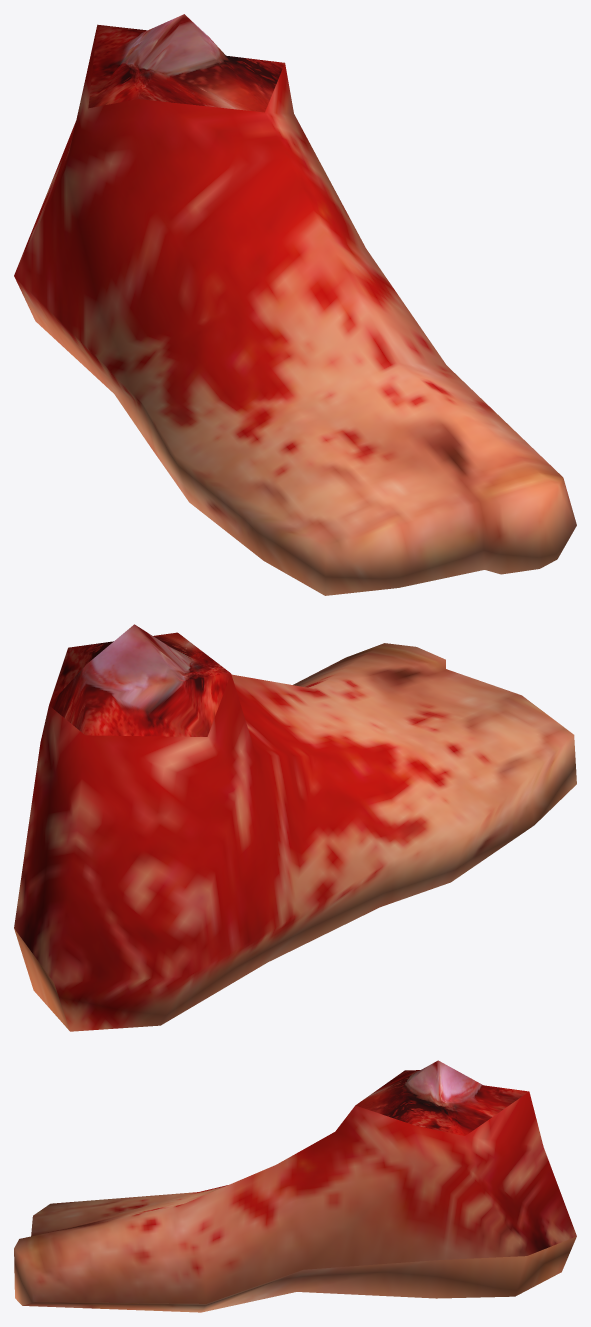
Rendered from female_rt_foot.fbx.
3 renders of one model, top to bottom at view 1: azimuth 30°, elevation 25°; view 2: azimuth 150°, elevation 25°; view 3: azimuth 270°, elevation 25°, orthographic. The views are drawn at different scales.
Parts seen in each view (by area): view 1: fm_rt_foot_gib; view 2: fm_rt_foot_gib; view 3: fm_rt_foot_gib.
Boxes of the visible parts, box(x1,y1,x2,y2) form: fm_rt_foot_gib: box(14, 14, 576, 595); fm_rt_foot_gib: box(14, 624, 576, 1031); fm_rt_foot_gib: box(14, 1060, 576, 1312).
Size of the model in its own units: 0.1092 by 0.1316 by 0.2899.
